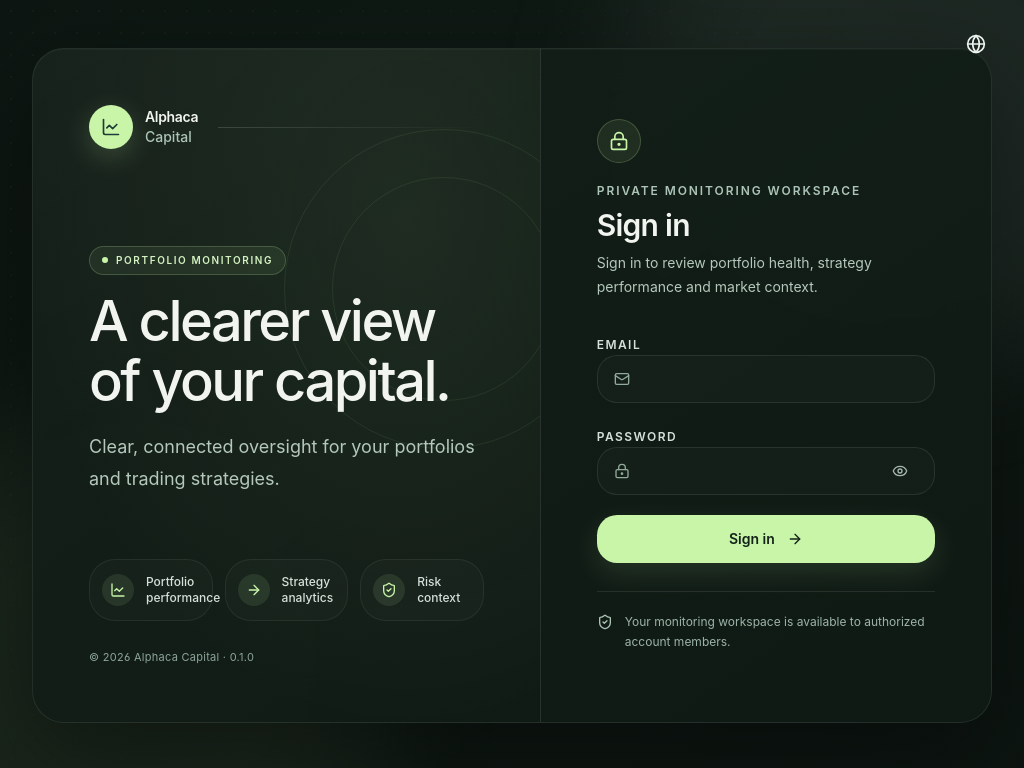
Test: sign-in page › uses the Alphaca brand and keeps the sign-in controls accessible
Expected: the heading "A clearer view of your capital." is shown, [89,290,484,411]
Expected: the heading "Sign in" is shown, [597,207,690,243]
Click the button named "Show password": (900, 471) [882,453,918,489]
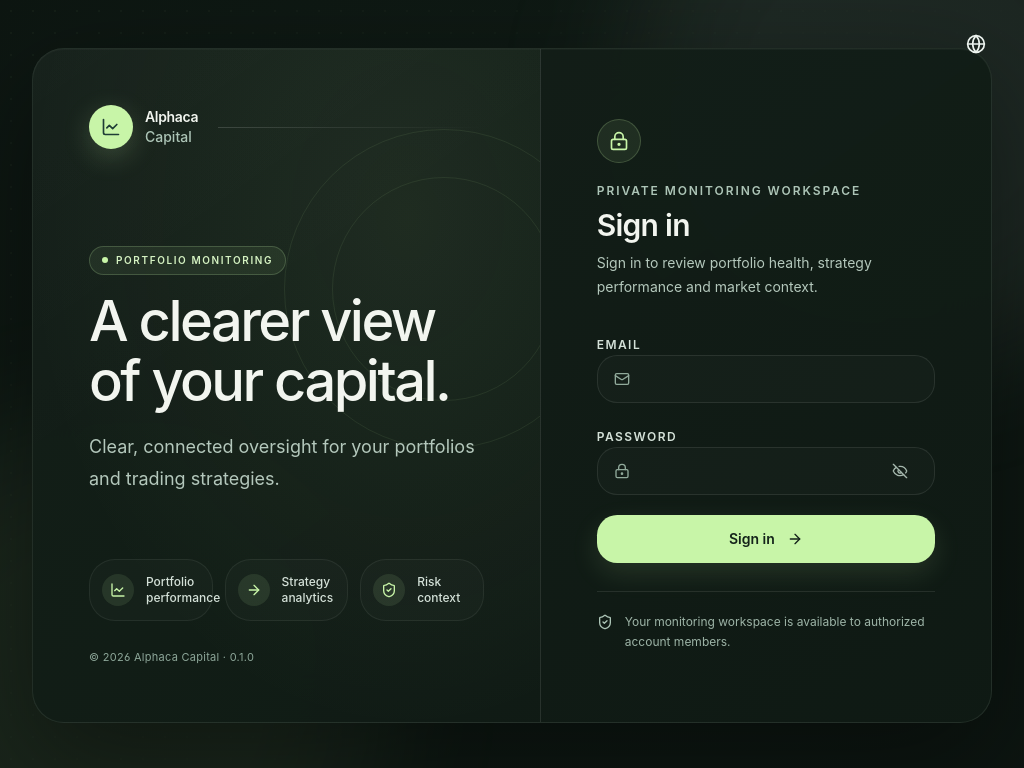
Expected: the button named "Hide password" is shown, [882,453,918,489]
